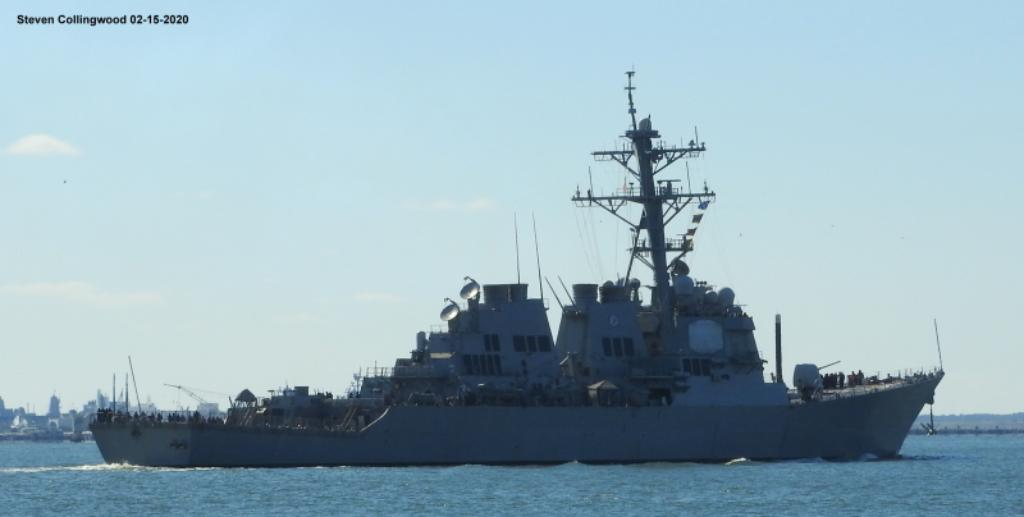Warship: (92, 64, 952, 465)
